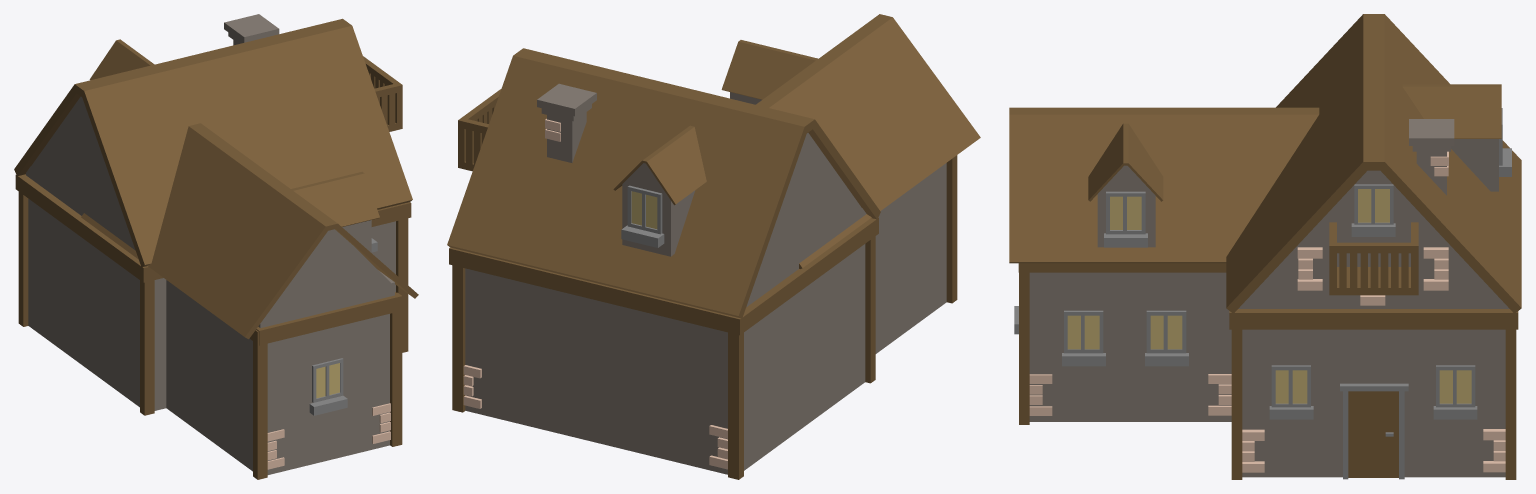
The model's file is country_house_2 1.fbx.
3 views of the same model, side by side, from view 1: azimuth 30°, elevation 25°; view 2: azimuth 150°, elevation 25°; view 3: azimuth 270°, elevation 25° (orthographic). The views are drawn at different scales.
Visible parts, largest first — view 1: wooden_parts, walls, windows, decor, glass; view 2: wooden_parts, walls, decor, windows, glass; view 3: wooden_parts, walls, windows, glass, decor.
Boxes of the visible parts, left/top/right/bottom form: wooden_parts: left=14, top=18, right=418, bottom=479; walls: left=26, top=14, right=395, bottom=474; windows: left=309, top=238, right=377, bottom=415; decor: left=267, top=403, right=390, bottom=469; glass: left=316, top=363, right=339, bottom=398; wooden_parts: left=447, top=14, right=980, bottom=479; walls: left=465, top=83, right=946, bottom=474; decor: left=463, top=118, right=727, bottom=469; windows: left=621, top=185, right=664, bottom=247; glass: left=631, top=191, right=657, bottom=229; wooden_parts: left=1009, top=14, right=1521, bottom=479; walls: left=1029, top=119, right=1509, bottom=477; windows: left=1014, top=108, right=1511, bottom=479; glass: left=1067, top=189, right=1471, bottom=403; decor: left=1029, top=151, right=1505, bottom=472.
Bounding box in the file's own units: 830 × 738 × 1073.
